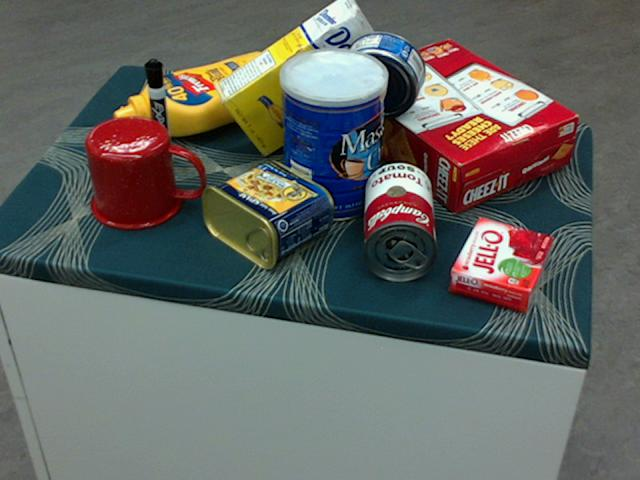cracker_box: (336, 38, 575, 213)
gelatin_box: (449, 217, 551, 309)
large_marker: (142, 58, 173, 165)
master_chef_can: (278, 48, 386, 223)
mug: (85, 115, 203, 230)
mustard_bottle: (111, 51, 286, 136)
potted_meat_can: (199, 160, 332, 269)
sugar_box: (210, 0, 395, 157)
tomato_soup_can: (360, 161, 435, 280)
tuna_fish_can: (338, 30, 425, 116)
